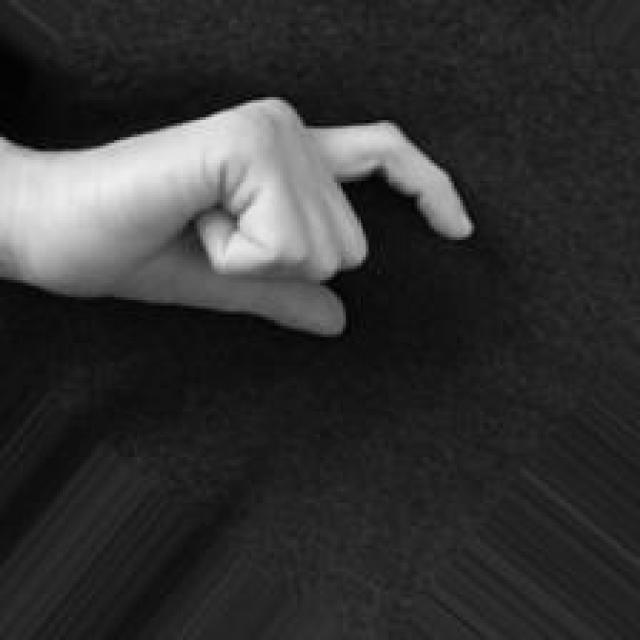C: (78, 96, 478, 348)
